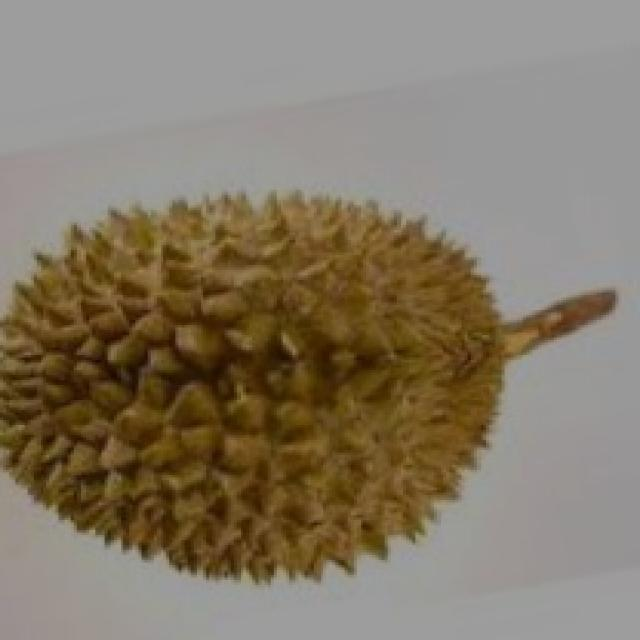fruit: (175, 220, 563, 630), (0, 202, 342, 628)
